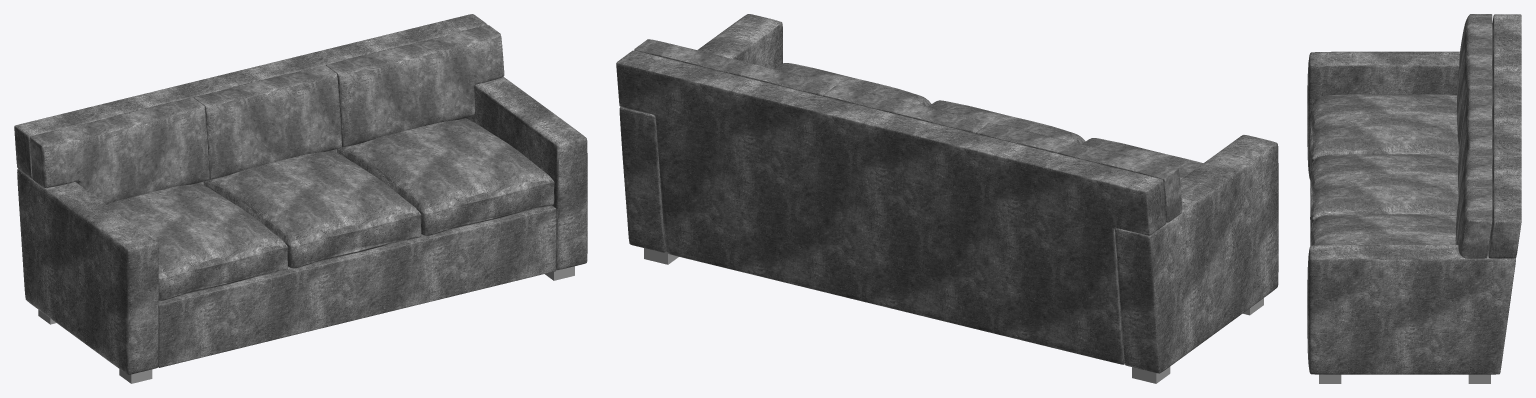
The model's file is burtonjames_1058_sofa.gltf.
The picture shows the model from 3 angles, left to right: view 1: azimuth 30°, elevation 25°; view 2: azimuth 150°, elevation 25°; view 3: azimuth 270°, elevation 25°; orthographic projection. The views are drawn at different scales.
Visible parts, largest first — view 1: burtonjames_1058_sofa; view 2: burtonjames_1058_sofa; view 3: burtonjames_1058_sofa.
Boxes of the visible parts, x1=… form: burtonjames_1058_sofa: x1=14, y1=14, x2=587, y2=383; burtonjames_1058_sofa: x1=616, y1=14, x2=1278, y2=383; burtonjames_1058_sofa: x1=1307, y1=14, x2=1521, y2=383.
Bounding box in the file's own units: 2252 × 838 × 977.
Materials: 2 (1 with a texture image).
